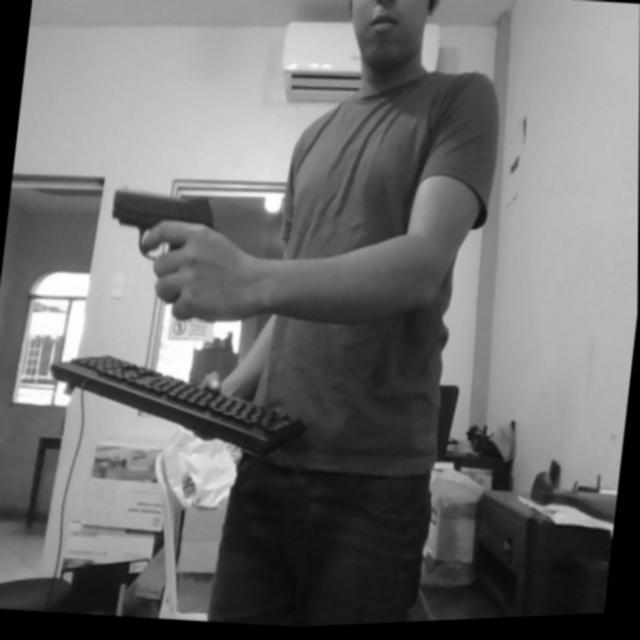weapon: (98, 171, 224, 283)
